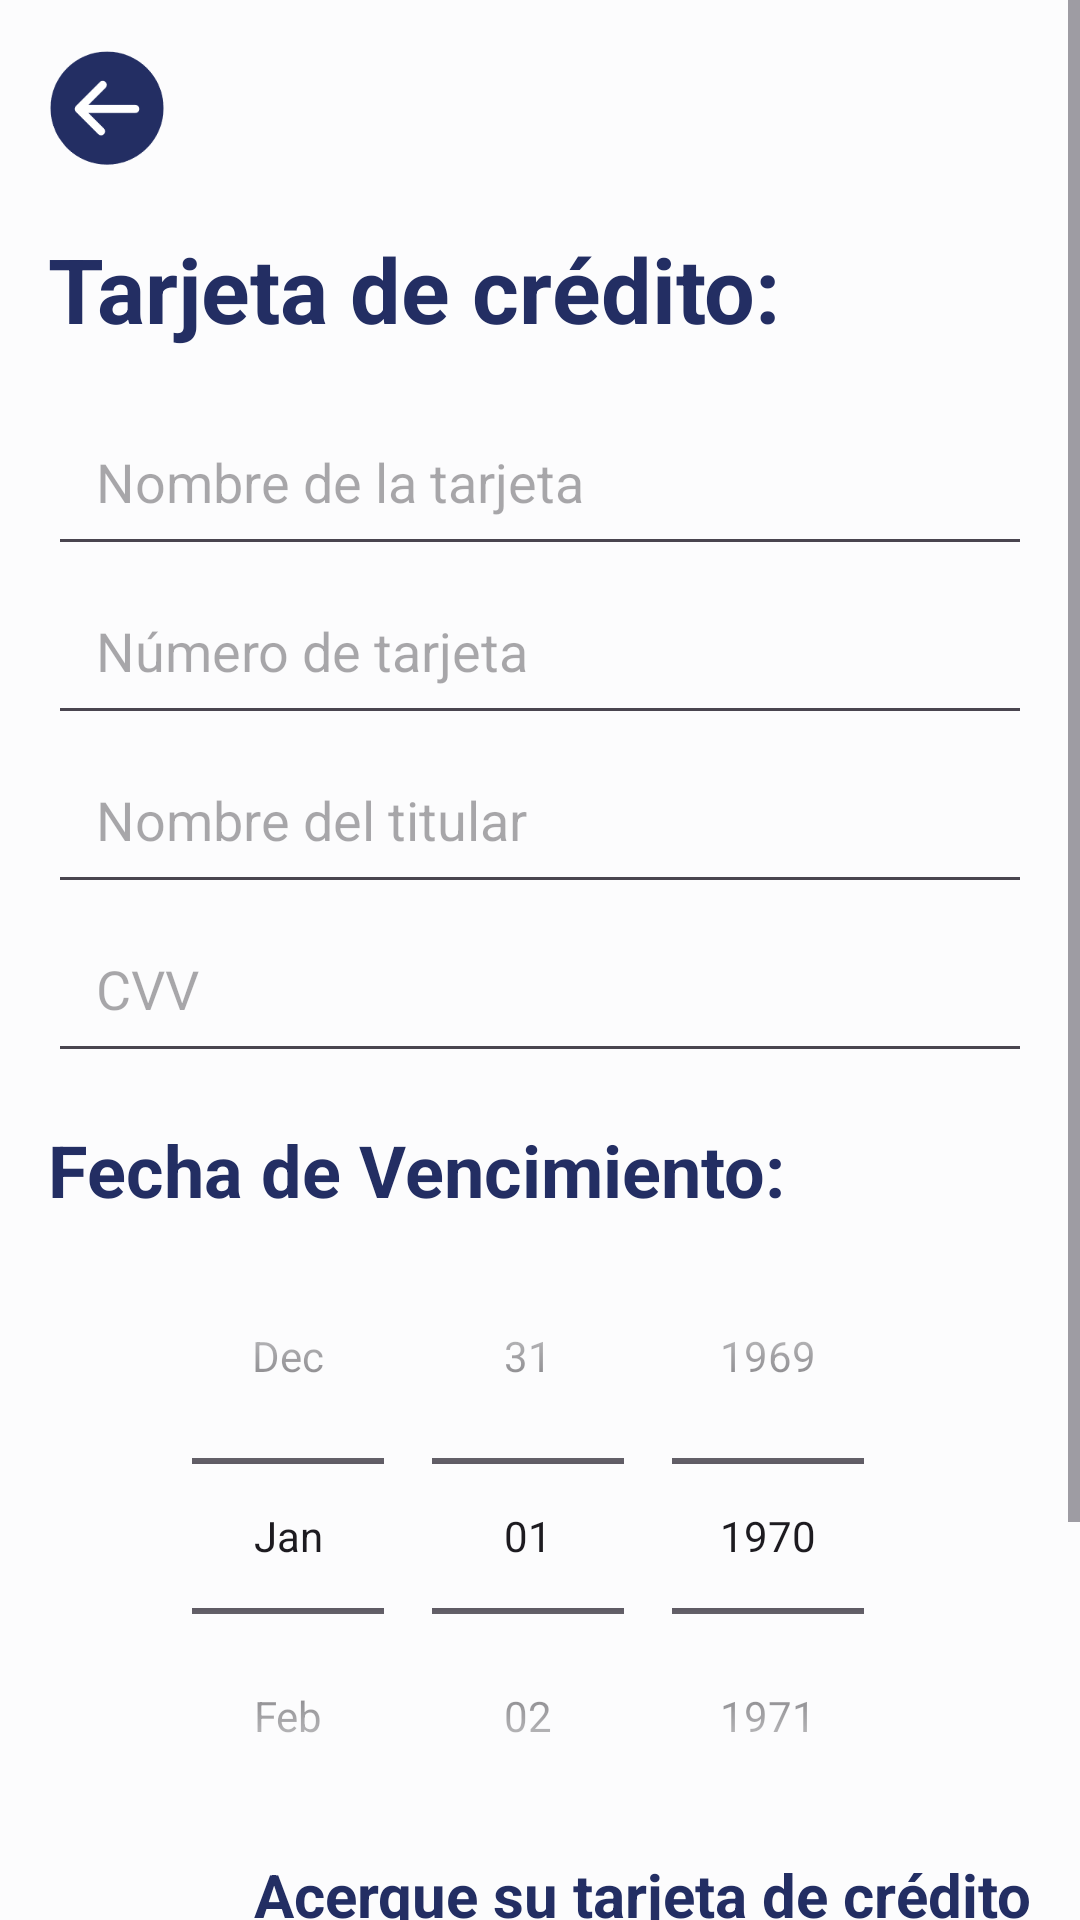

Screen size 1080×1920. Icon name, then its box in pixels as (x1, y1, x2, y2):
goback: (50, 51, 164, 165)
